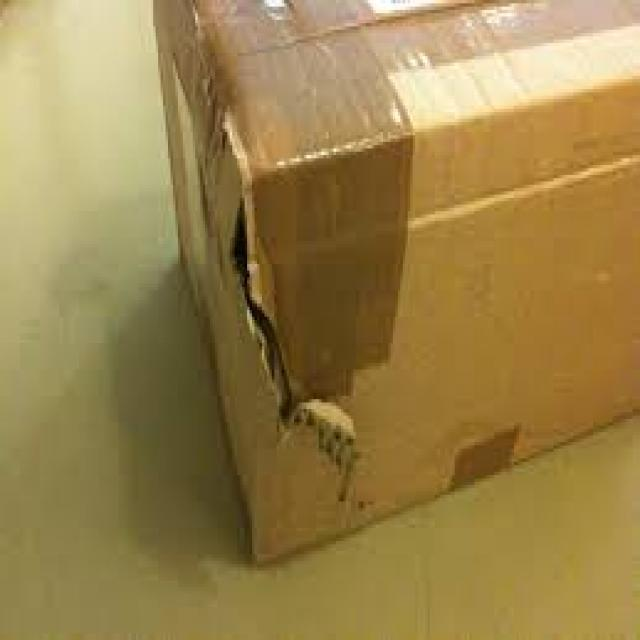hole: (227, 200, 306, 441)
